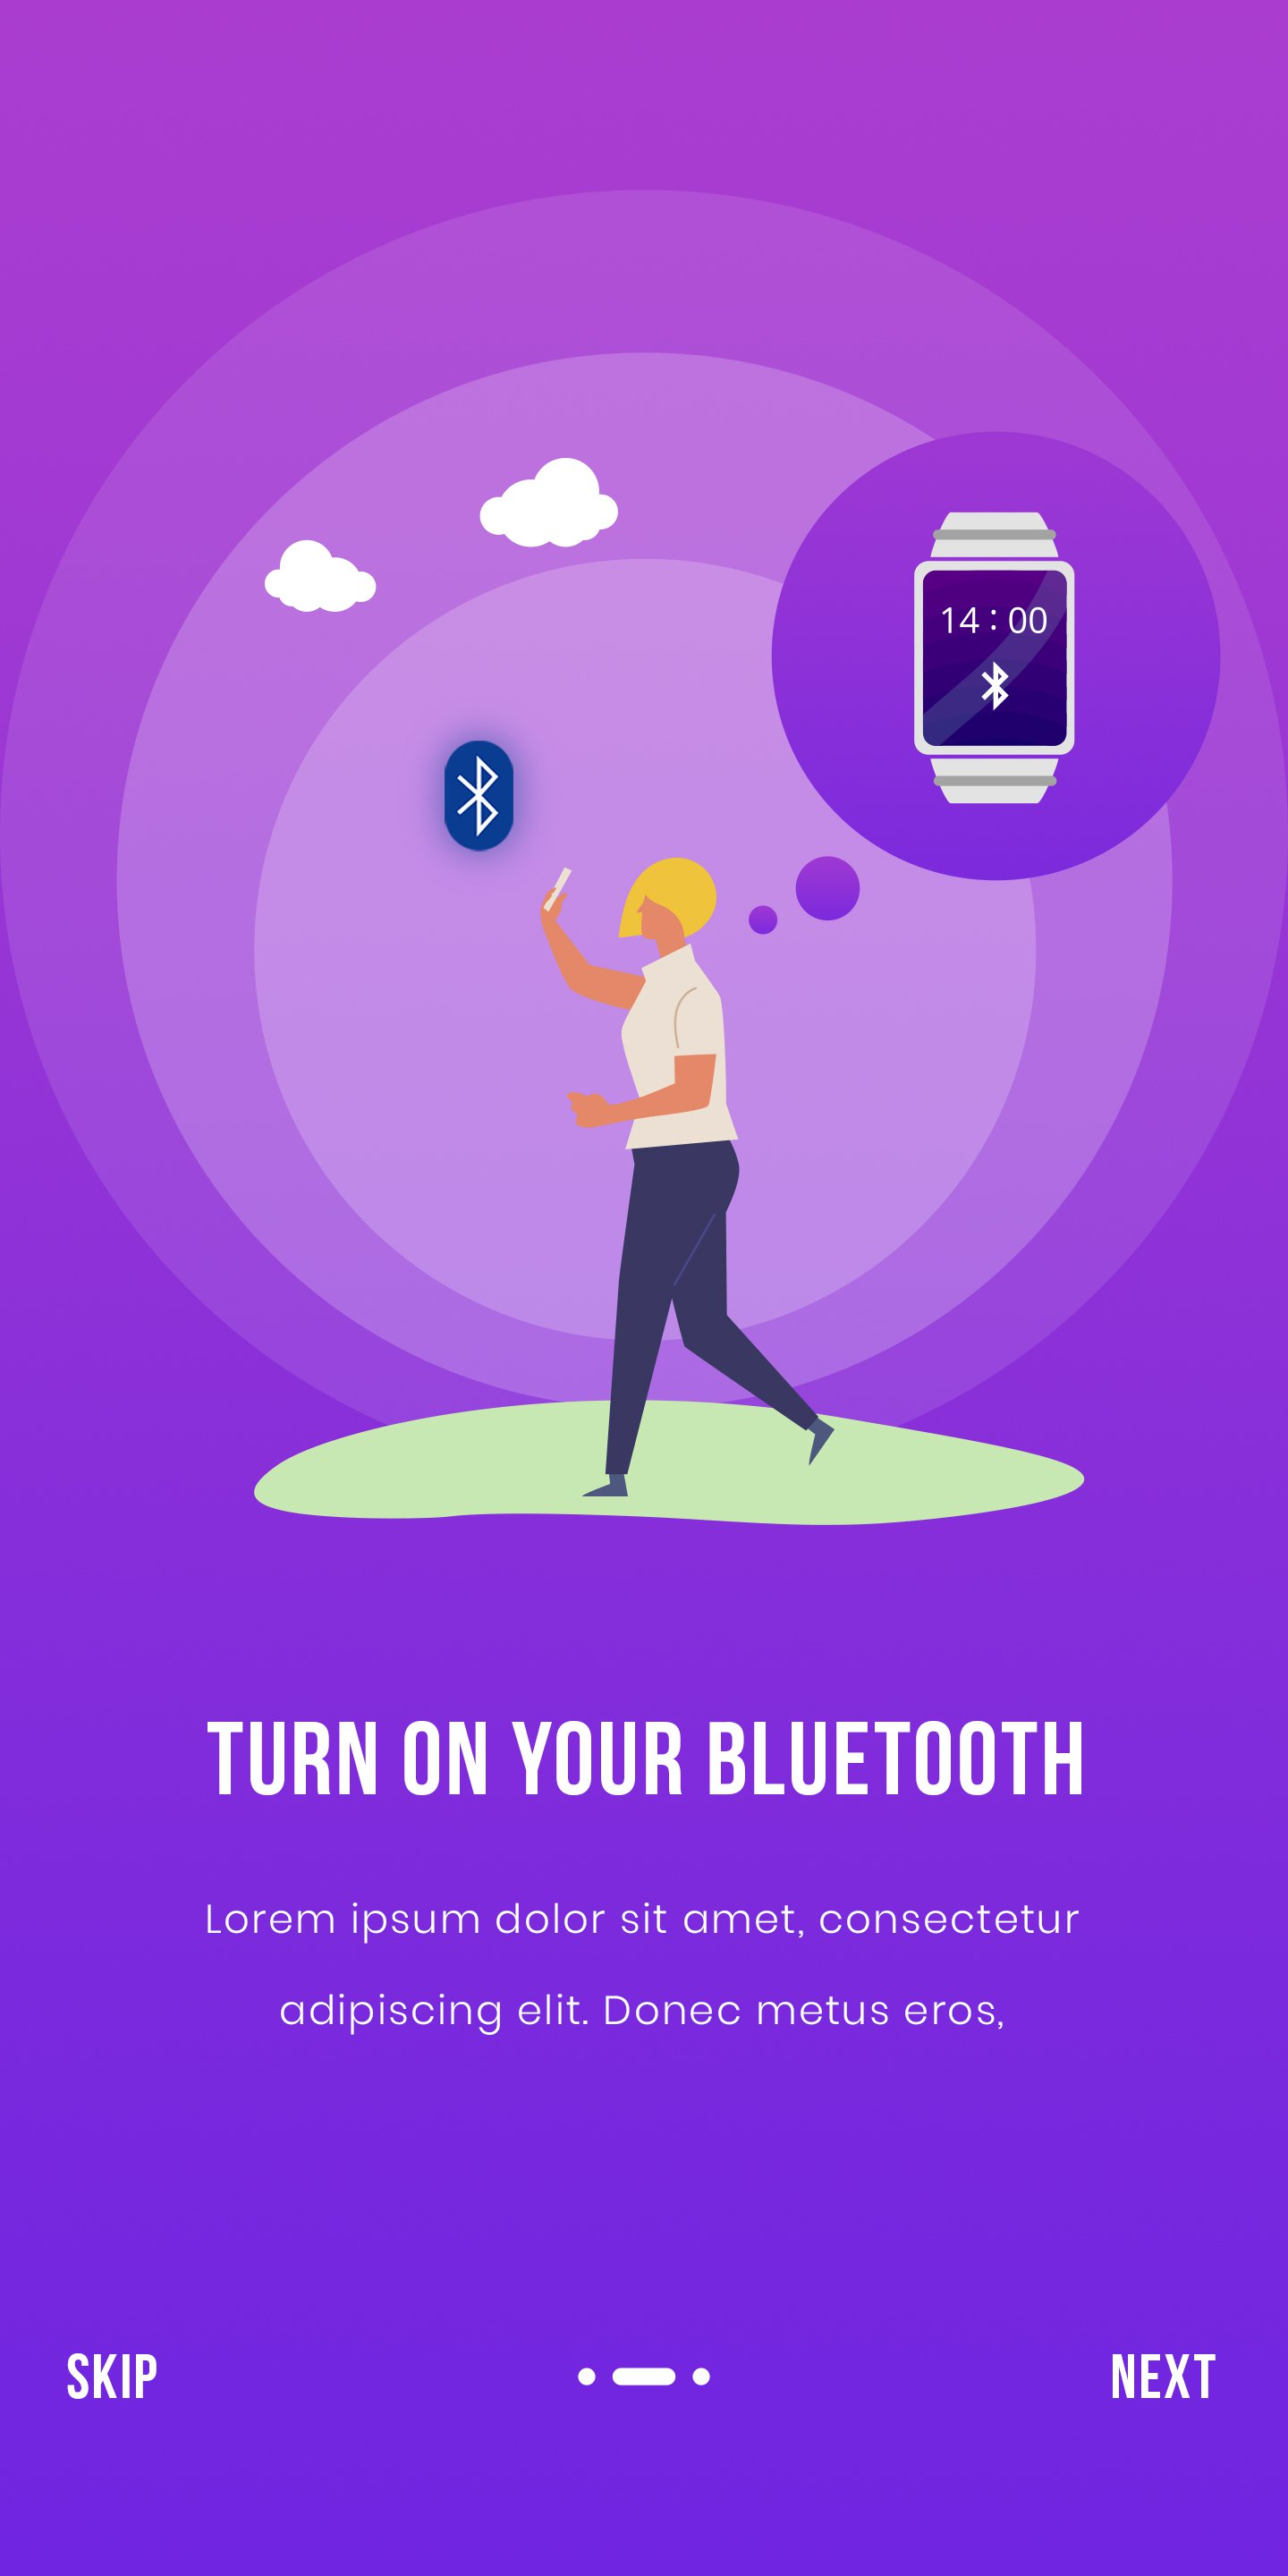Image: (214, 430, 1221, 1529)
PageIndicator: (577, 2366, 711, 2389)
Text: (207, 1901, 1081, 2037), (207, 1720, 1084, 1797), (1112, 2353, 1216, 2400), (67, 2353, 158, 2400)
